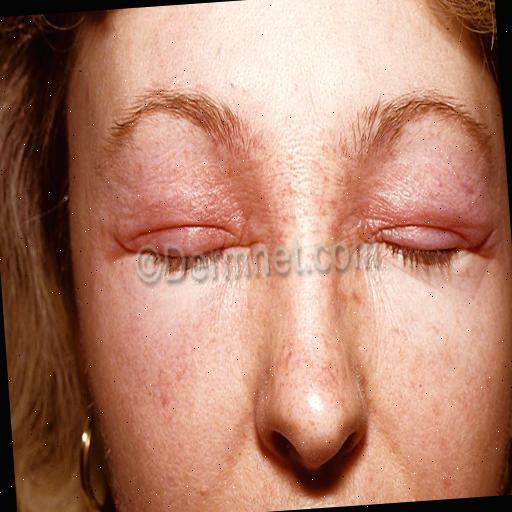Skin_Lesion: (416, 344, 492, 436), (140, 352, 194, 414), (267, 204, 308, 242), (309, 354, 338, 382), (347, 286, 363, 306), (440, 468, 454, 488), (242, 423, 254, 444), (354, 216, 365, 232), (390, 324, 402, 338), (464, 183, 476, 196), (318, 204, 329, 218), (435, 178, 443, 188), (285, 350, 293, 360), (418, 382, 422, 390)
